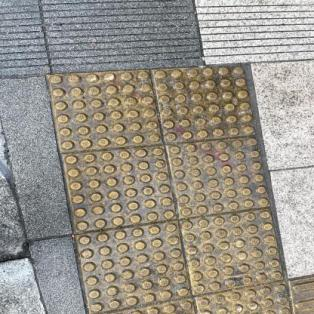Podoctatil: (37, 58, 314, 314)
